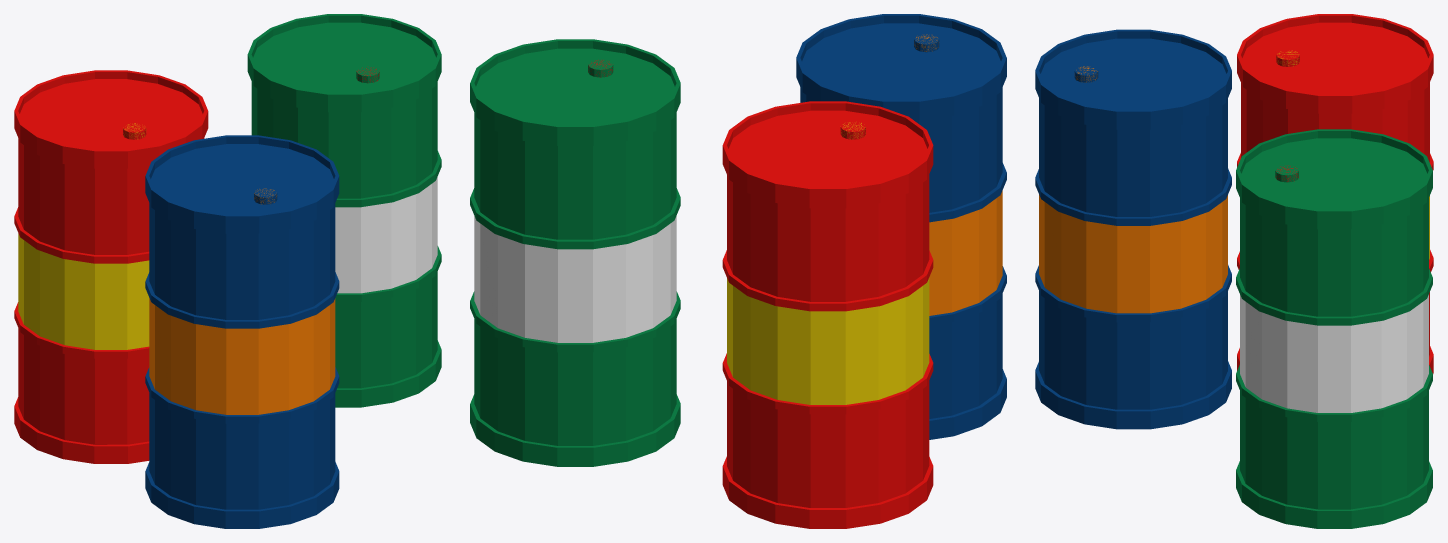
File: oil barrels.obj
3 renders of one model, left to right at view 1: azimuth 30°, elevation 25°; view 2: azimuth 150°, elevation 25°; view 3: azimuth 270°, elevation 25°, orthographic. The views are drawn at different scales.
Visible parts, largest first — view 1: group_20_ID164, group_18_ID148, group_19_ID155, group_21, group_13, group_5, group_10_ID80, group_4_ID30, group_3_ID21, group_2_ID14, group_11_ID87, group_12_ID96 (+9 smaller); view 2: group_11_ID87, group_4_ID30, group_12_ID96, group_2_ID14, group_3_ID21, group_10_ID80, group_5, group_13, group_21, group_18_ID148, group_20_ID164, group_19_ID155 (+9 smaller); view 3: group_19_ID155, group_12_ID96, group_20_ID164, group_10_ID80, group_11_ID87, group_18_ID148, group_21, group_13, group_5, group_2_ID14, group_17_ID139, group_9_ID71 (+4 smaller).
Part boxes in pixels (<box>): group_20_ID164: <box>149,393,335,509</box>; group_18_ID148: <box>149,203,335,319</box>; group_19_ID155: <box>149,298,335,414</box>; group_21: <box>145,135,339,233</box>; group_13: <box>247,14,441,112</box>; group_5: <box>14,70,208,168</box>; group_10_ID80: <box>251,82,437,198</box>; group_4_ID30: <box>18,328,149,444</box>; group_3_ID21: <box>18,233,149,349</box>; group_2_ID14: <box>18,138,149,254</box>; group_11_ID87: <box>335,177,437,293</box>; group_12_ID96: <box>335,272,437,388</box>; group_11_ID87: <box>474,216,676,342</box>; group_4_ID30: <box>727,381,929,507</box>; group_12_ID96: <box>474,319,676,445</box>; group_2_ID14: <box>727,175,929,301</box>; group_3_ID21: <box>727,278,929,404</box>; group_10_ID80: <box>474,113,676,239</box>; group_5: <box>722,101,933,208</box>; group_13: <box>470,39,680,145</box>; group_21: <box>796,14,1006,120</box>; group_18_ID148: <box>800,87,1002,212</box>; group_20_ID164: <box>929,294,1002,418</box>; group_19_ID155: <box>929,190,1002,315</box>; group_19_ID155: <box>1039,194,1227,313</box>; group_12_ID96: <box>1240,391,1428,509</box>; group_20_ID164: <box>1039,291,1227,409</box>; group_10_ID80: <box>1240,198,1428,316</box>; group_11_ID87: <box>1240,294,1428,412</box>; group_18_ID148: <box>1039,98,1227,216</box>; group_21: <box>1035,29,1231,129</box>; group_13: <box>1236,129,1432,229</box>; group_5: <box>1237,14,1433,113</box>; group_2_ID14: <box>1241,82,1429,162</box>; group_17_ID139: <box>1035,361,1231,429</box>; group_9_ID71: <box>1236,461,1432,528</box>.
Bounding box in the file's own units: 0.1186 × 0.089 × 0.1012.
